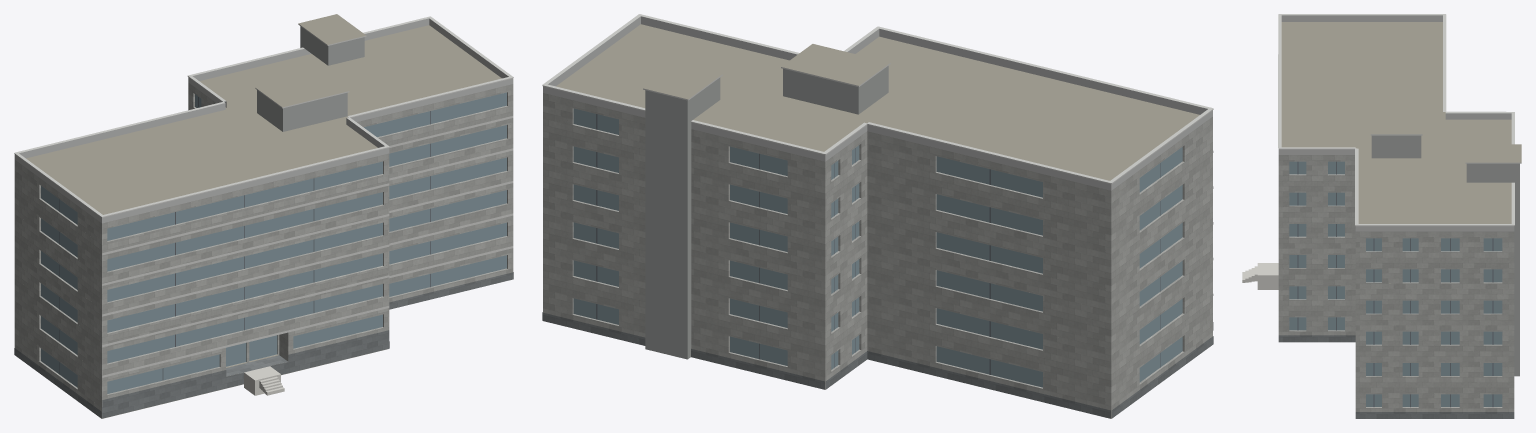
3 views of the same model, side by side, from view 1: azimuth 30°, elevation 25°; view 2: azimuth 150°, elevation 25°; view 3: azimuth 270°, elevation 25° (orthographic). The views are drawn at different scales.
Visible parts, largest first — view 1: b17__wall, b17__glass, b17__roof, b17__trim, b17__parapet, b17__base, b17__wall2, b17__entranceStair; view 2: b17__wall, b17__roof, b17__glass, b17__wall2, b17__parapet, b17__base, b17__trim, b17__frame; view 3: b17__wall, b17__roof, b17__glass, b17__wall2, b17__parapet, b17__trim, b17__base, b17__entranceStair, b17__frame.
Part boxes in pixels (bbox=[...]): b17__wall: bbox=[14, 83, 513, 418]; b17__glass: bbox=[41, 92, 506, 393]; b17__roof: bbox=[26, 14, 501, 418]; b17__trim: bbox=[14, 16, 513, 377]; b17__parapet: bbox=[14, 18, 513, 223]; b17__base: bbox=[14, 272, 513, 418]; b17__wall2: bbox=[257, 26, 364, 131]; b17__entranceStair: bbox=[244, 366, 284, 395]; b17__wall: bbox=[543, 93, 1212, 418]; b17__roof: bbox=[556, 24, 1199, 418]; b17__glass: bbox=[573, 108, 1182, 387]; b17__wall2: bbox=[645, 66, 888, 359]; b17__parapet: bbox=[543, 16, 1212, 190]; b17__base: bbox=[542, 312, 1213, 418]; b17__trim: bbox=[542, 14, 1213, 295]; b17__frame: bbox=[596, 114, 1160, 374]; b17__wall: bbox=[1278, 155, 1514, 411]; b17__roof: bbox=[1281, 22, 1521, 283]; b17__glass: bbox=[1289, 161, 1502, 406]; b17__wall2: bbox=[1371, 135, 1519, 376]; b17__parapet: bbox=[1278, 15, 1514, 231]; b17__trim: bbox=[1278, 14, 1521, 226]; b17__base: bbox=[1278, 335, 1514, 418]; b17__entranceStair: bbox=[1242, 263, 1278, 289]; b17__frame: bbox=[1297, 161, 1493, 407].
Size of the model in its own units: 52.36 by 25.16 by 29.21.
Materials: 10 (2 with a texture image).
